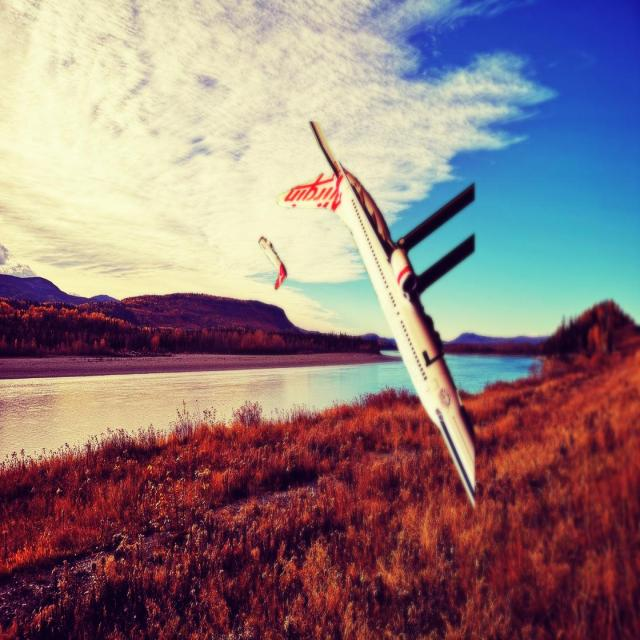airplane: (272, 118, 478, 510)
